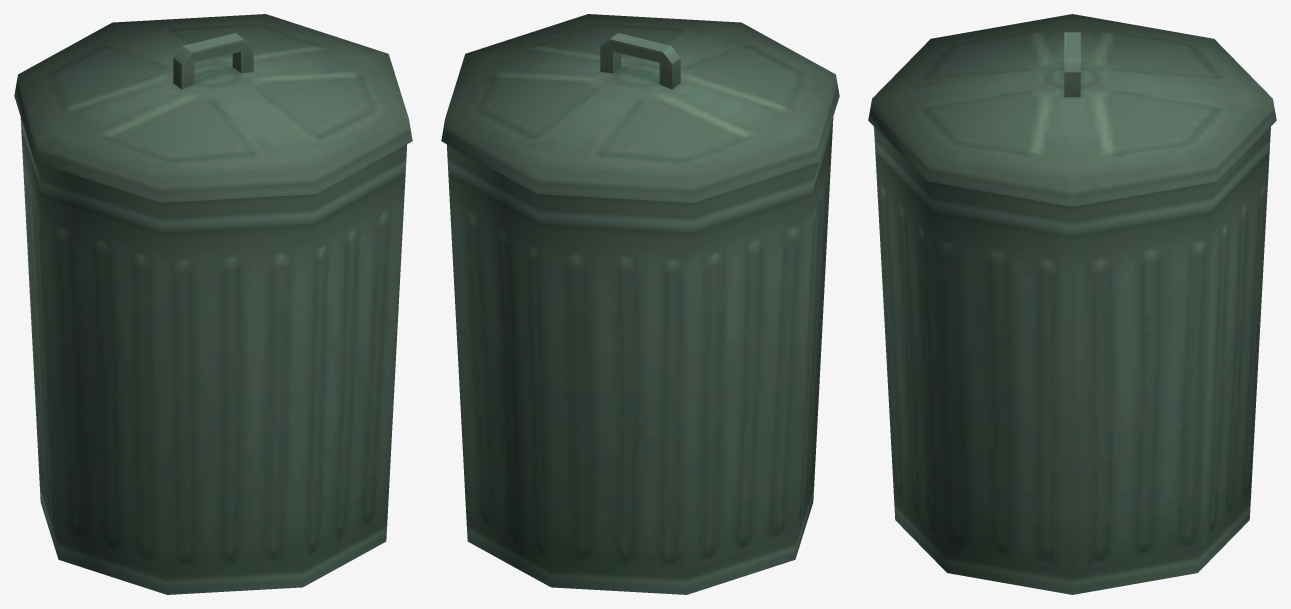
The model's file is dustbin.obj.
3 views of the same model, side by side, from view 1: azimuth 30°, elevation 25°; view 2: azimuth 150°, elevation 25°; view 3: azimuth 270°, elevation 25° (orthographic).
Visible parts, largest first — view 1: dustbin; view 2: dustbin; view 3: dustbin.
Boxes of the visible parts, x1,y1,x2,y2 form: dustbin: (14, 14, 412, 594); dustbin: (441, 14, 839, 594); dustbin: (868, 14, 1276, 594).
Size of the model in its own units: 0.7503 by 0.9623 by 0.7503.
Materials: 1 (1 with a texture image).
